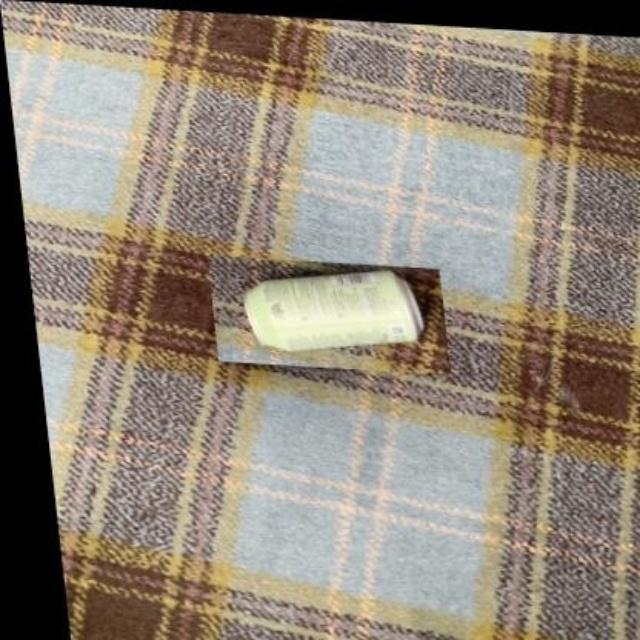trash: (245, 271, 422, 349)
